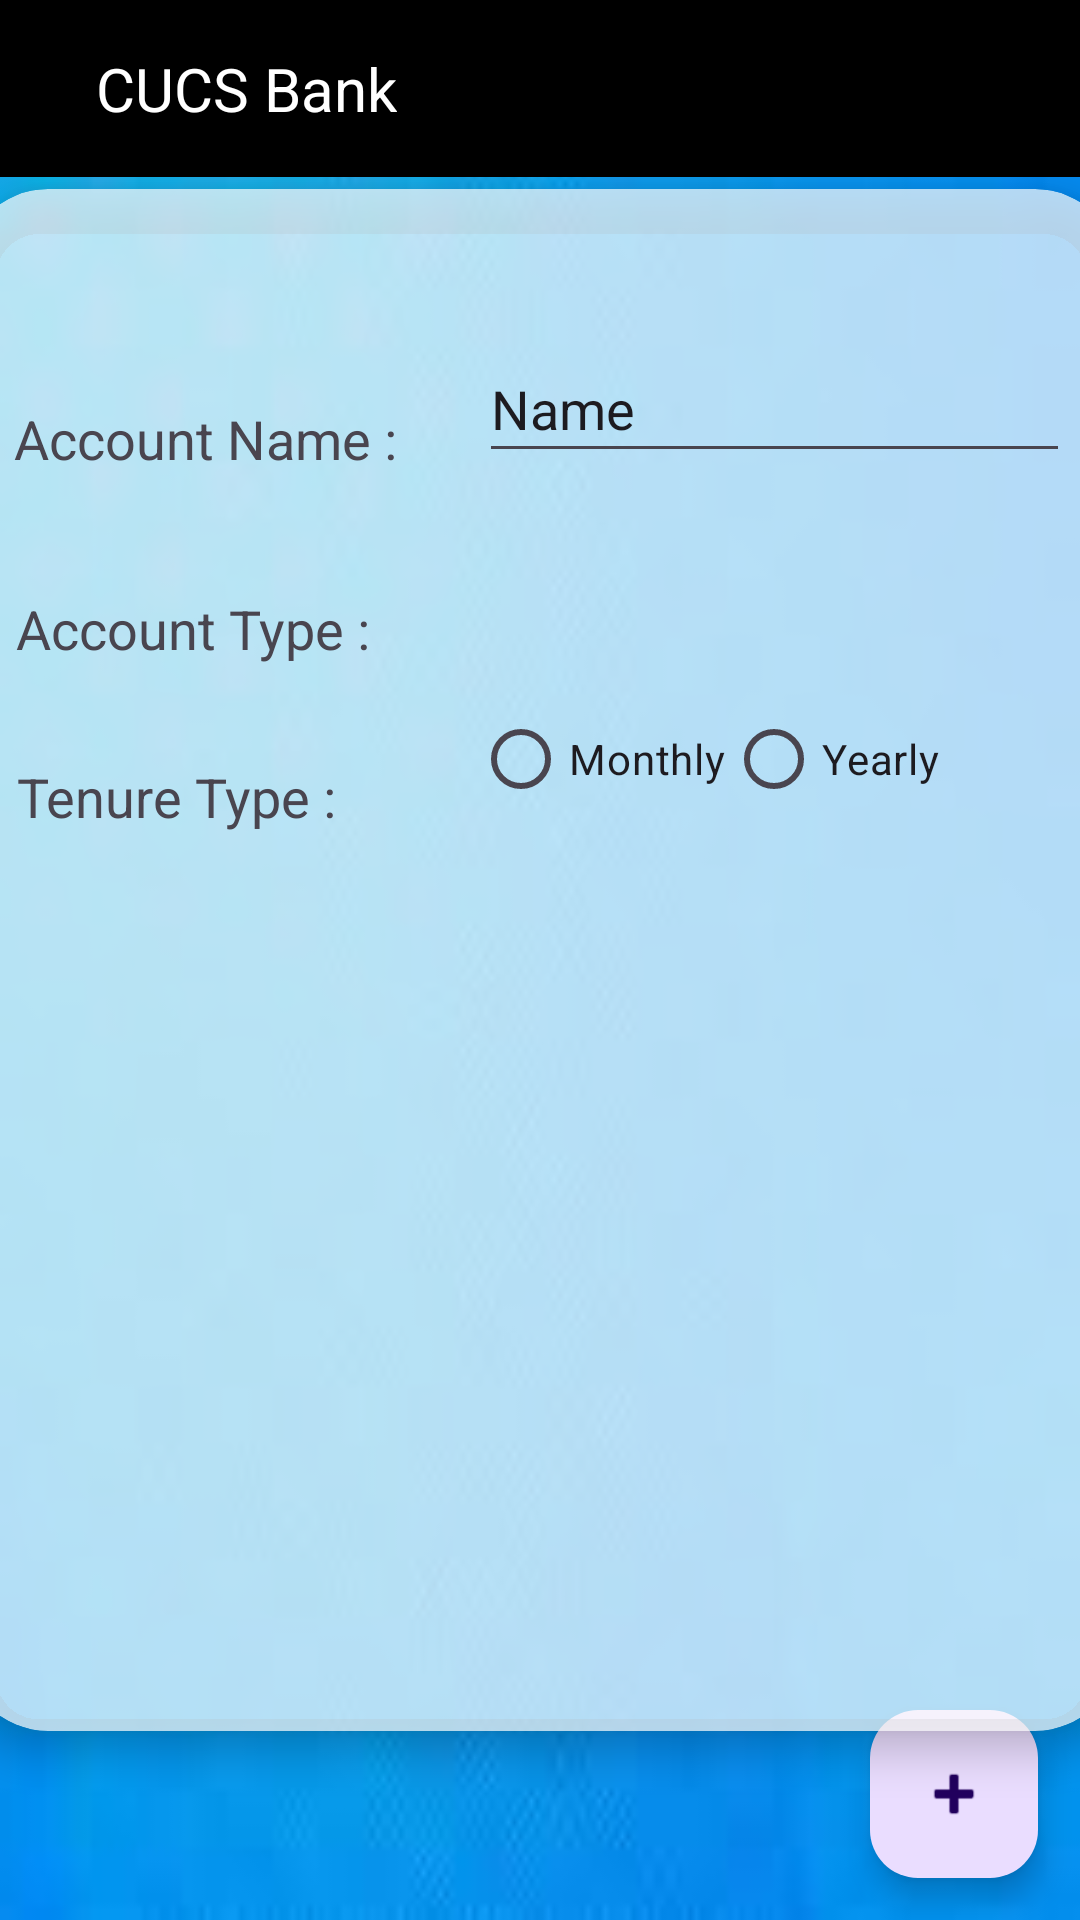

Where to tap for icons on this 1080 × 1920 app screen, as point (x, y):
add: point (954, 1794)
